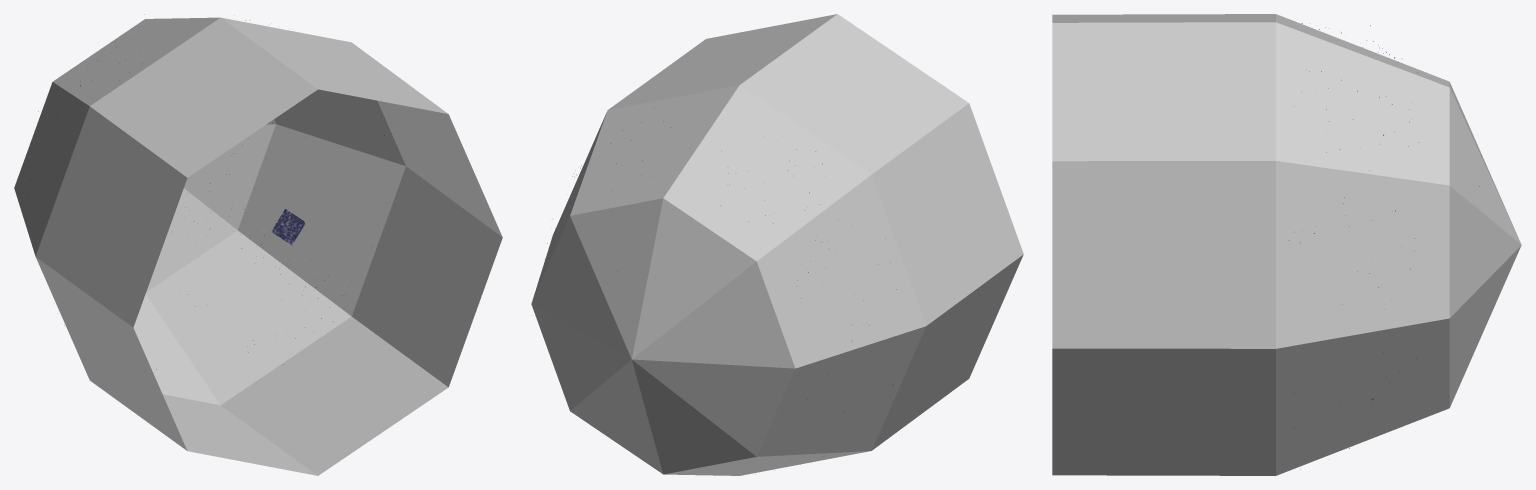
The picture shows the model from 3 angles, left to right: view 1: azimuth 30°, elevation 25°; view 2: azimuth 150°, elevation 25°; view 3: azimuth 270°, elevation 25°; orthographic projection. The views are drawn at different scales.
Visible parts, largest first — view 1: Cube; view 2: Cube; view 3: Cube.
Boxes of the visible parts, x1,y1,x2,y2 form: Cube: (14, 14, 502, 475); Cube: (531, 14, 1023, 475); Cube: (1052, 14, 1521, 475).
Size of the model in its own units: 5 by 4.78 by 5.
